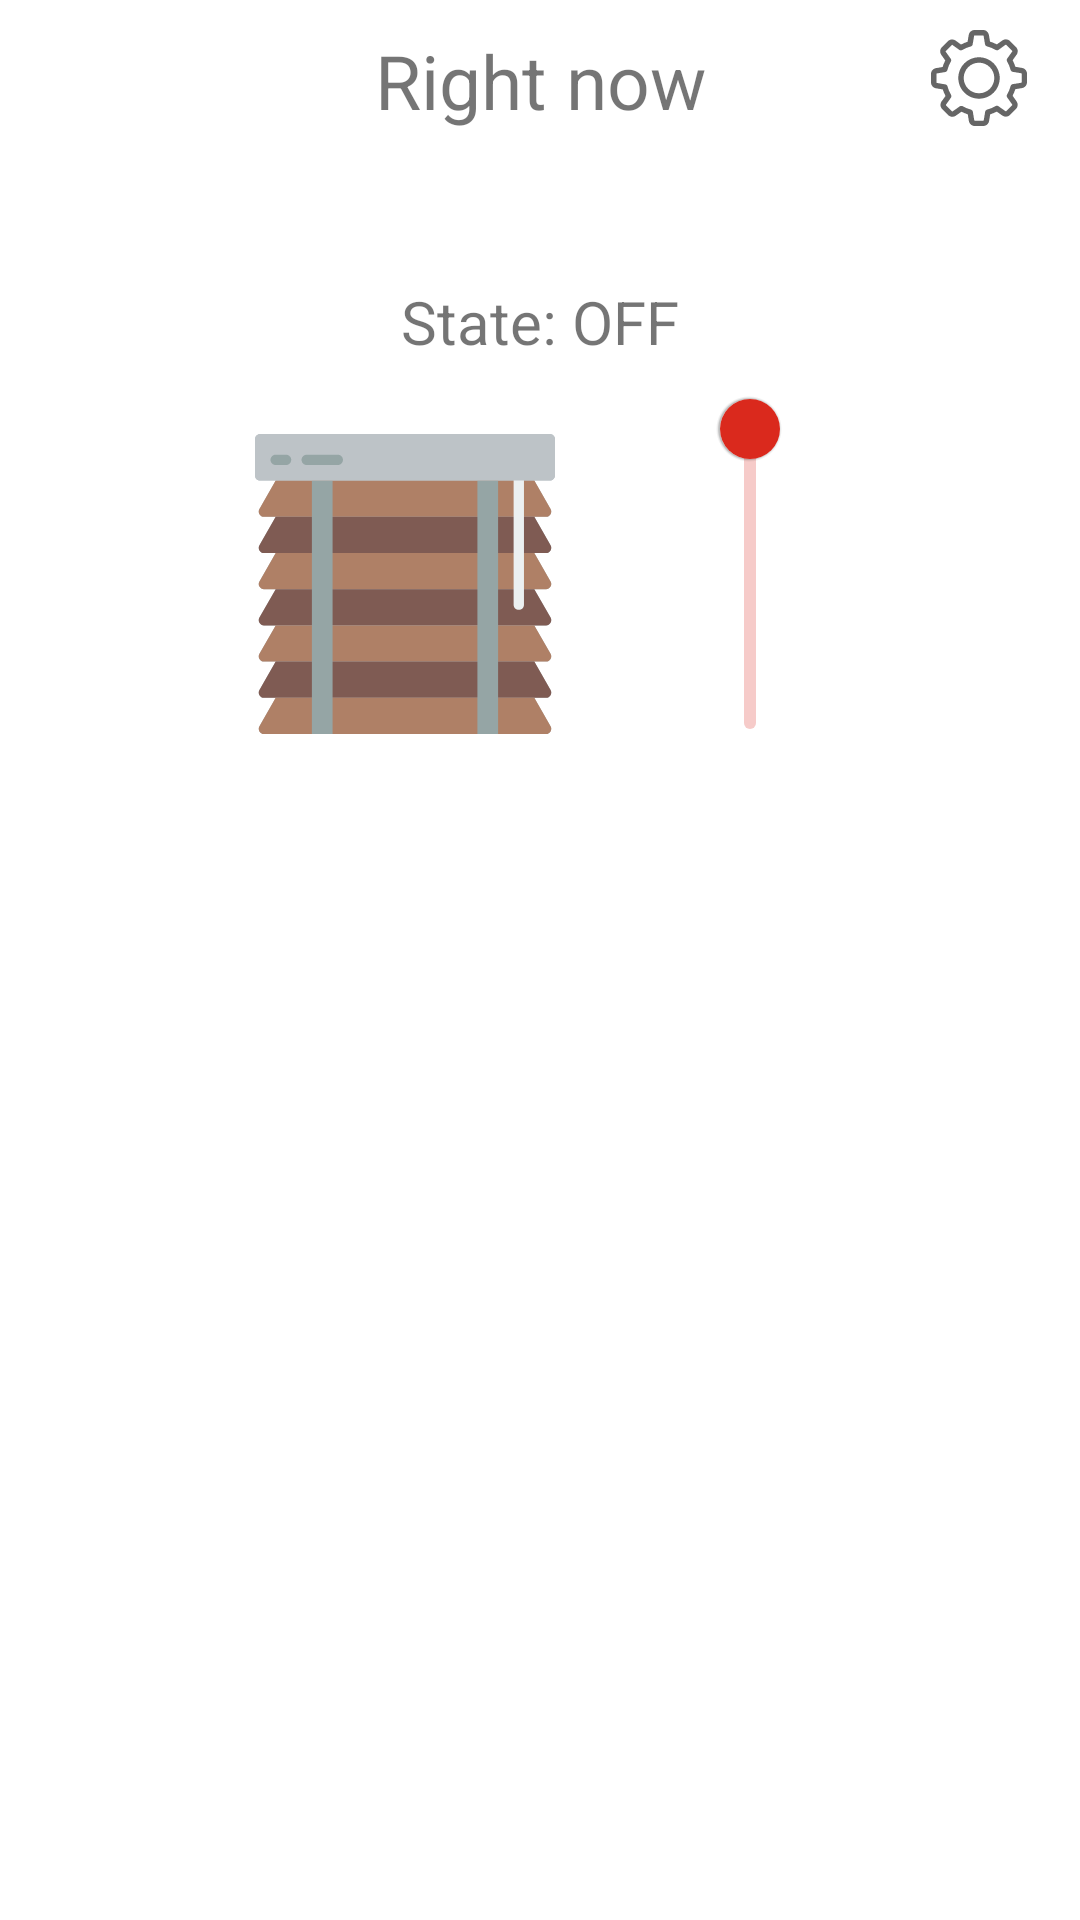

Icon click points for this 1080*1920 phone screenshot, format [x,y]:
Device settings: [979,78]
